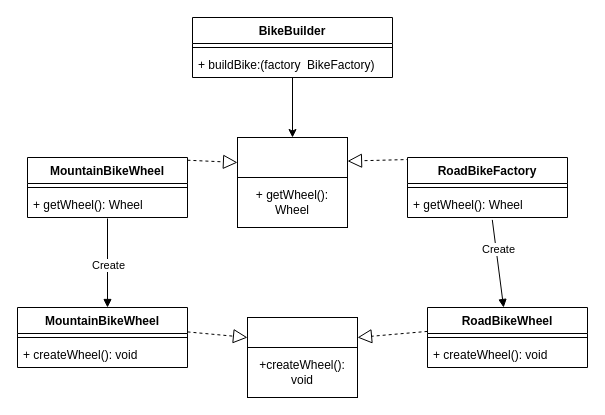
This 605x415 diagram has some shape labels left out. Each missing label, with the centre of its shape:
"«interface» BikeFactory" belongs at pixel 292 162.
"«interface» Wheel ." belongs at pixel 302 337.
